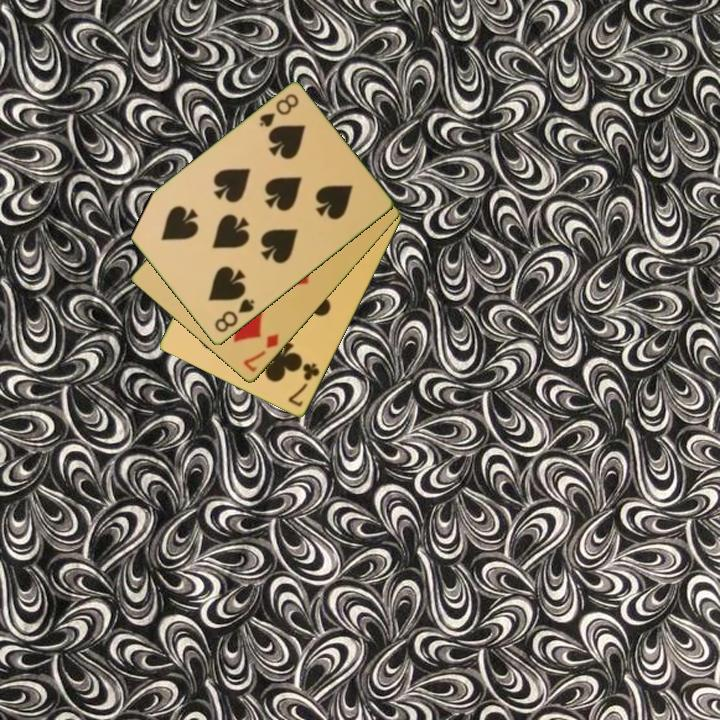7c: (285, 360, 323, 410)
7d: (240, 330, 282, 376)
8s: (256, 90, 302, 131), (211, 296, 257, 336)
